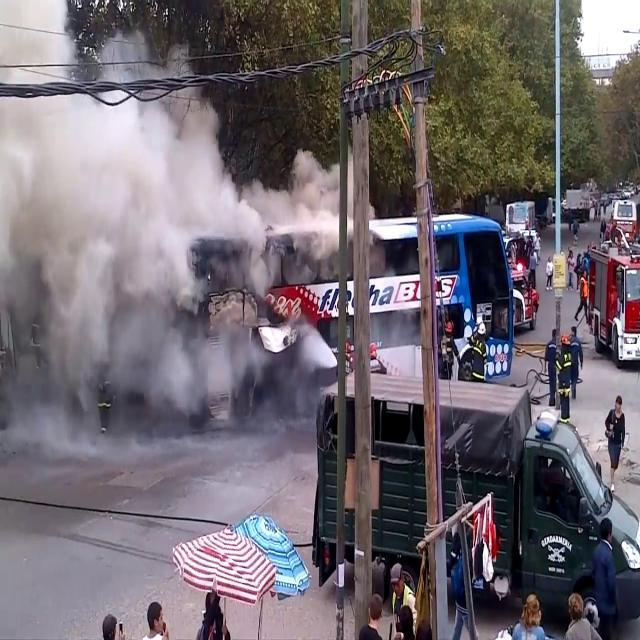Smoke: (0, 42, 309, 463)
